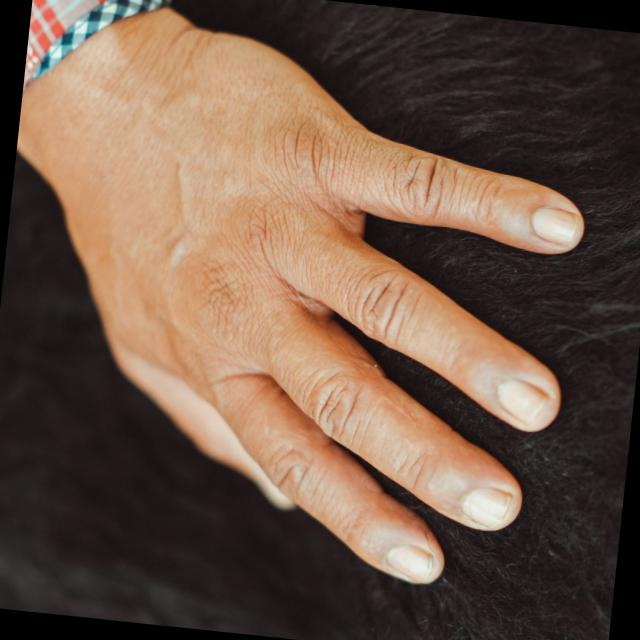Nail: (498, 378, 549, 424), (532, 204, 585, 247), (462, 487, 512, 529), (385, 544, 434, 583)
